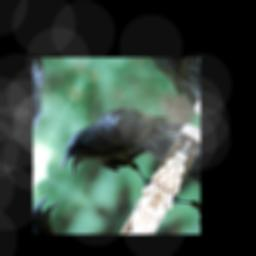Crow: (54, 74, 194, 221)
